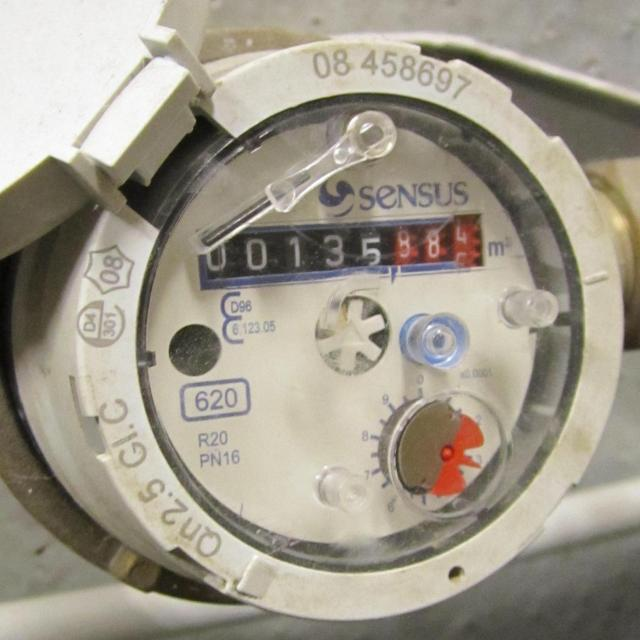gaz_meter: (140, 94, 544, 545)
indication: (196, 211, 487, 291)
